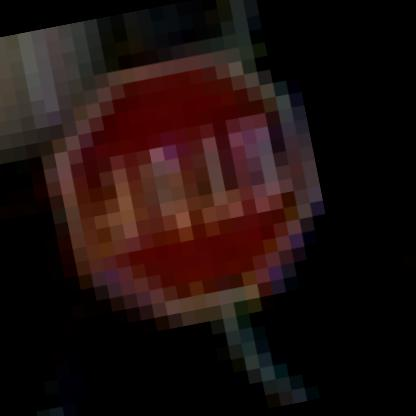stop: (6, 23, 358, 335)
